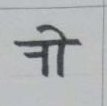i_matra: (46, 24, 70, 77)
